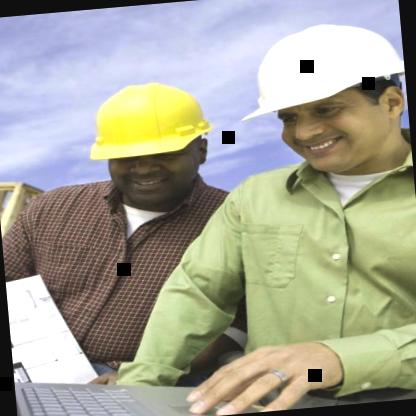helmet: (232, 9, 414, 190), (68, 61, 238, 216)
